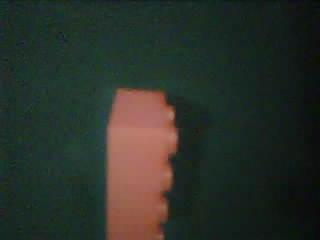lego: (104, 87, 178, 240)
